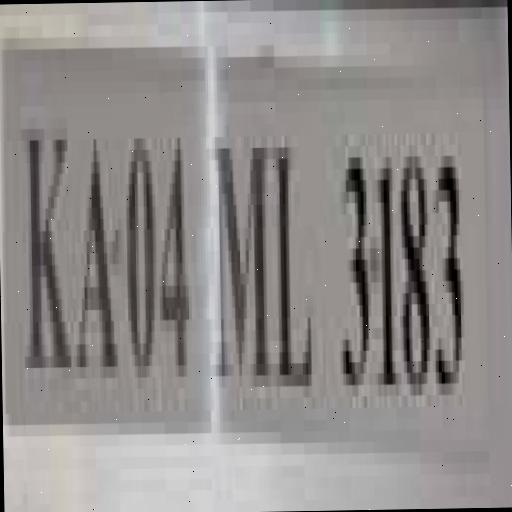number plate: (0, 7, 489, 458)
